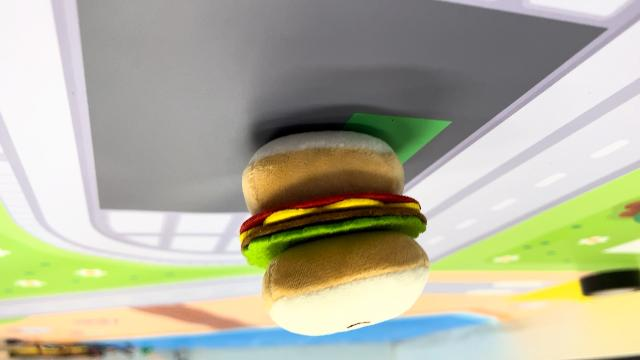sandwich: (236, 127, 434, 337)
